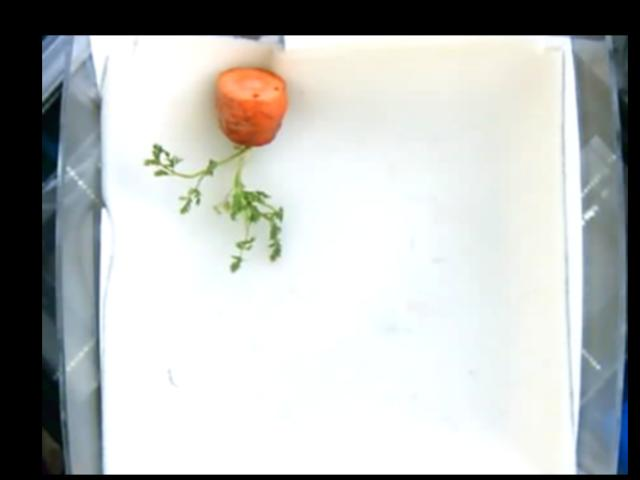Carrot: (142, 65, 285, 268)
